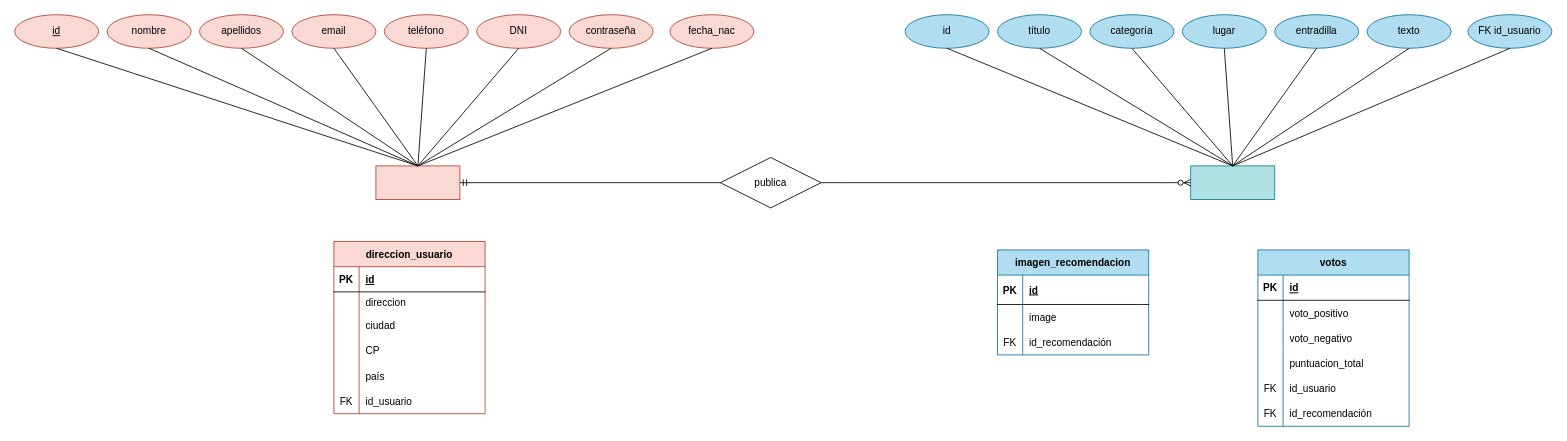
This 1567x441 diagram has some shape labels left out. Each missing label, with the centre of its shape:
recomendación: the point at 1232,182
usuario: the point at 417,182
